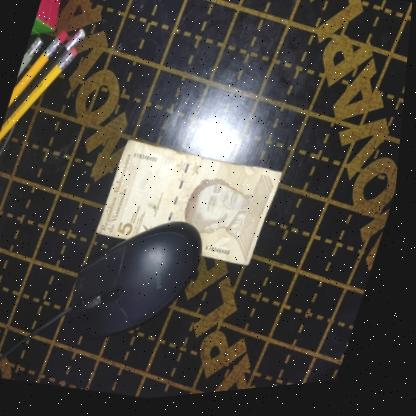five-front-vef: (95, 129, 291, 283)
